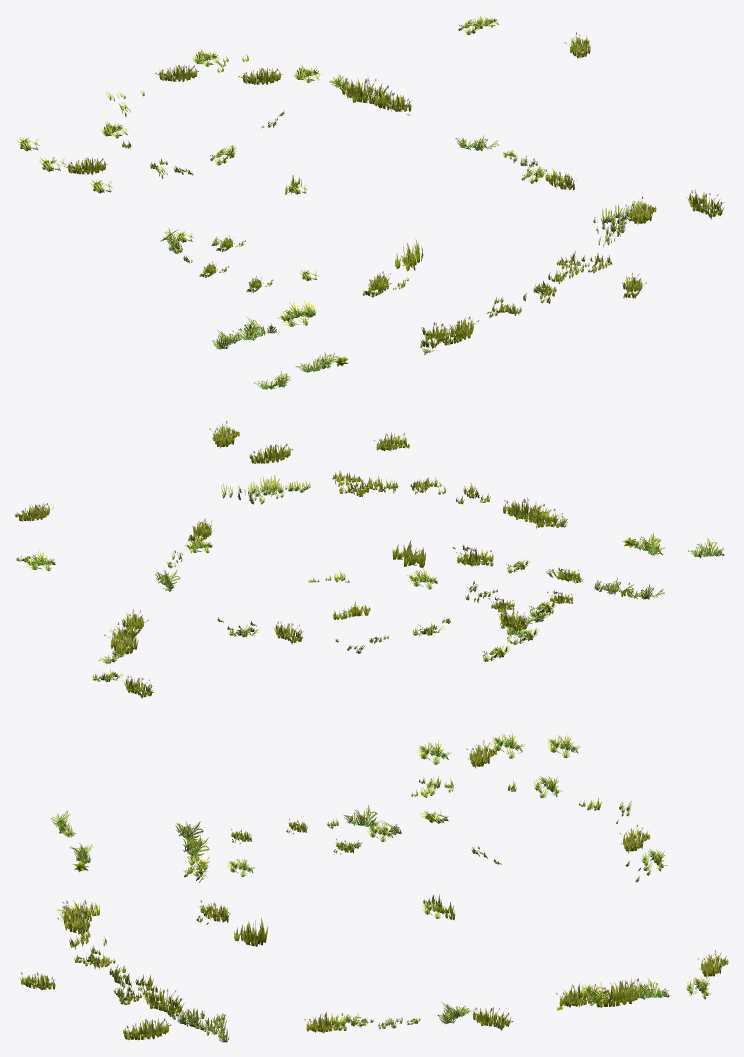
File: zhiwu.FBX
3 views of the same model, one above another, from view 1: azimuth 30°, elevation 25°; view 2: azimuth 150°, elevation 25°; view 3: azimuth 270°, elevation 25° (orthographic). The views are drawn at different scales.
Parts seen in each view (by area): view 1: Object072; view 2: Object072; view 3: Object072.
Boxes of the visible parts, x1=… form: Object072: x1=16, y1=16, x2=724, y2=389; Object072: x1=14, y1=421, x2=724, y2=698; Object072: x1=19, y1=731, x2=728, y2=1042.
Bounding box in the file's own units: 3150 × 506 × 3348.
